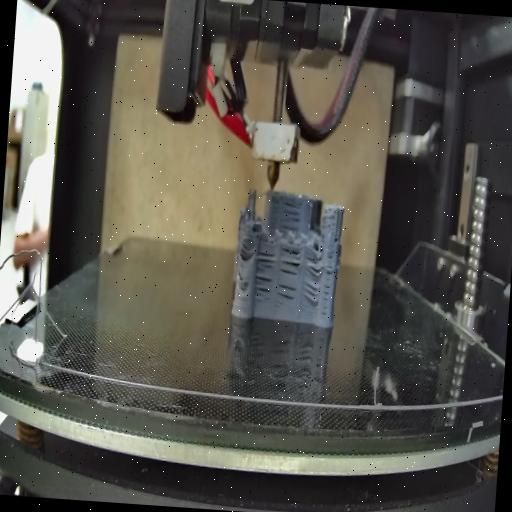cracks: (278, 200, 303, 232), (277, 246, 302, 274), (322, 258, 333, 320), (305, 250, 325, 280), (274, 281, 298, 306), (254, 274, 272, 301), (302, 283, 320, 306), (258, 248, 276, 270), (238, 240, 250, 260), (236, 266, 245, 286), (333, 231, 339, 248)
